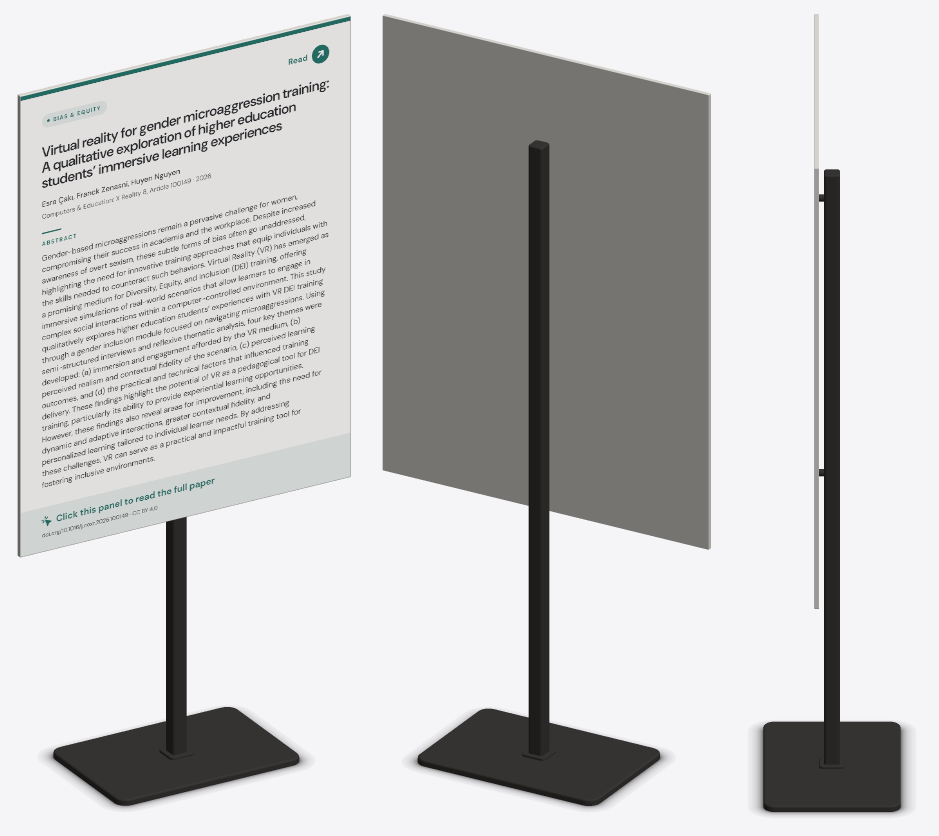
Rendered from caki-2026-stand.glb.
3 renders of one model, left to right at view 1: azimuth 30°, elevation 25°; view 2: azimuth 150°, elevation 25°; view 3: azimuth 270°, elevation 25°, orthographic. The views are drawn at different scales.
Parts seen in each view (by area): view 1: board, stand; view 2: board, stand; view 3: stand, board.
Part boxes in pixels (x1=…): board: x1=17, y1=14, x2=350, y2=557; stand: x1=46, y1=517, x2=306, y2=808; board: x1=382, y1=14, x2=710, y2=549; stand: x1=410, y1=140, x2=666, y2=808; stand: x1=756, y1=169, x2=907, y2=814; board: x1=814, y1=14, x2=818, y2=608.
Size of the model in its own units: 0.904 by 1.85 by 0.46.
Materials: 4 (2 with a texture image).
